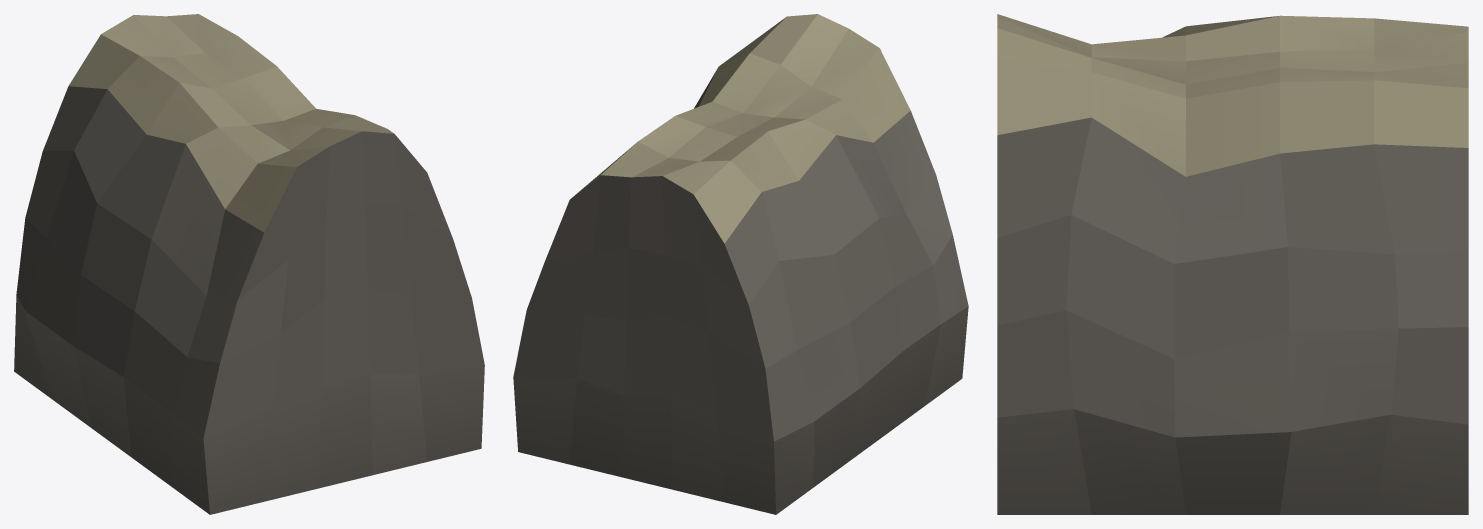
The model's file is roca_recta_2.glb.
3 views of the same model, side by side, from view 1: azimuth 30°, elevation 25°; view 2: azimuth 150°, elevation 25°; view 3: azimuth 270°, elevation 25° (orthographic). The views are drawn at different scales.
Parts seen in each view (by area): view 1: propforge-cuartos-roca_recta; view 2: propforge-cuartos-roca_recta; view 3: propforge-cuartos-roca_recta.
Part boxes in pixels (<box>): propforge-cuartos-roca_recta: <box>14,14,484,514</box>; propforge-cuartos-roca_recta: <box>513,14,968,514</box>; propforge-cuartos-roca_recta: <box>997,14,1468,514</box>.
Bounding box in the file's own units: 0.8917 × 0.976 × 1.
